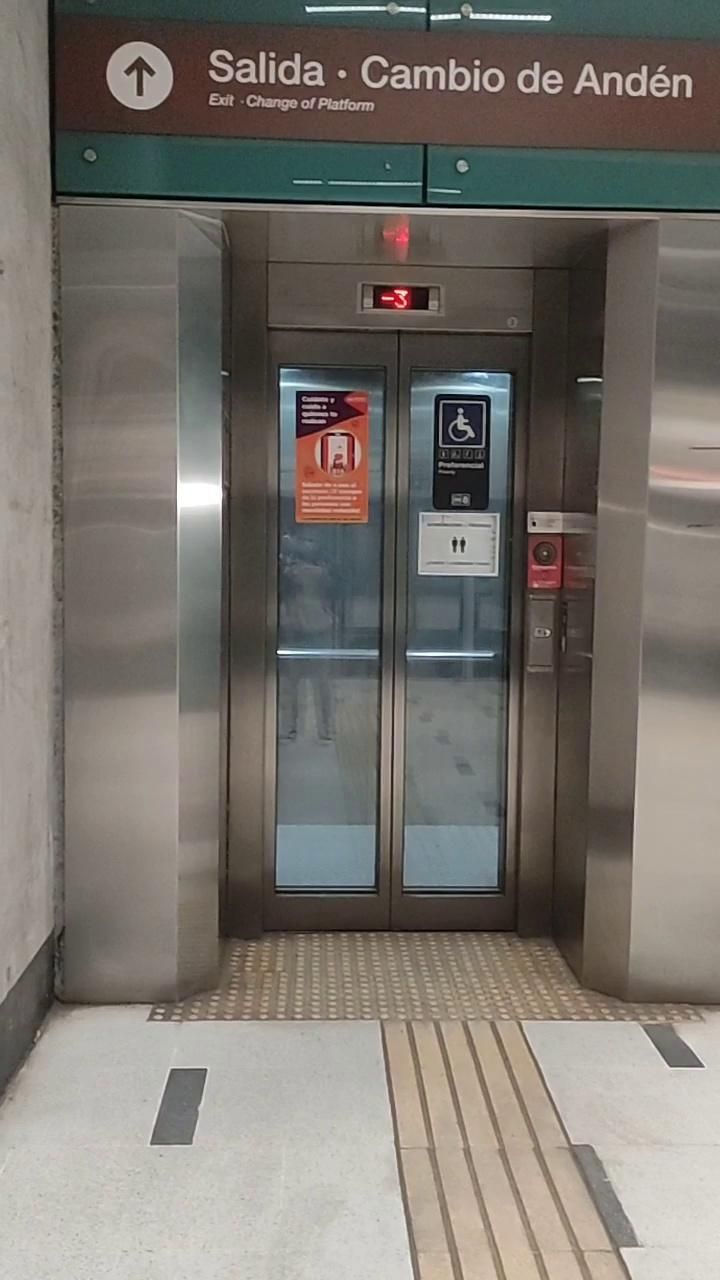handicapped symbol: (441, 398, 486, 464)
up arrow: (104, 40, 179, 120)
